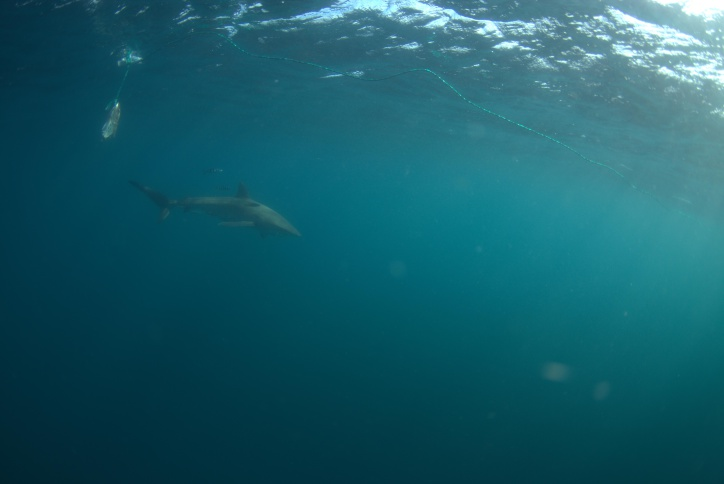Sedoso: (112, 158, 321, 250)
